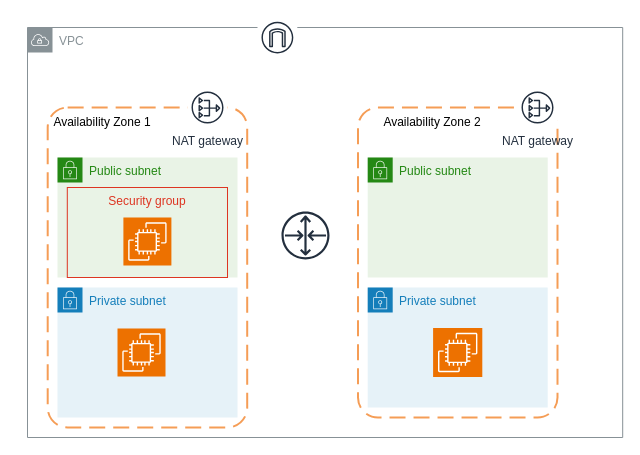
Image size: 640x455. Some labels were removed from this diagram. Each missing label, with the centre of its shape:
Internet gateway: [276,37]
Router: [305,235]
